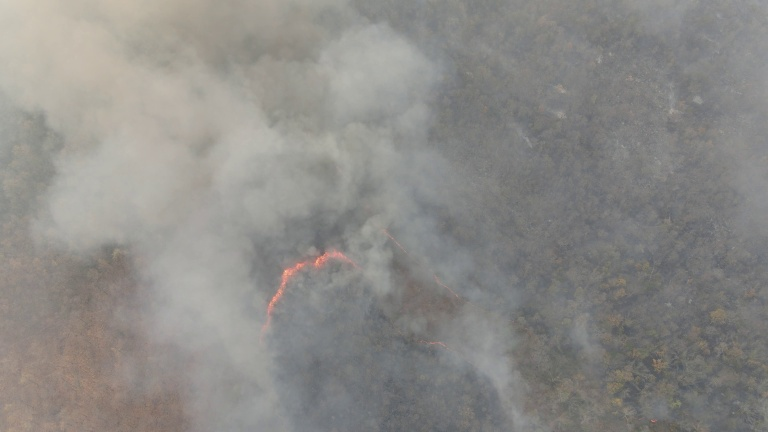fire: (253, 247, 356, 340), (421, 264, 473, 305), (370, 220, 412, 257), (413, 331, 448, 355)
smoke: (35, 32, 303, 425), (279, 8, 450, 215), (442, 289, 539, 423)
